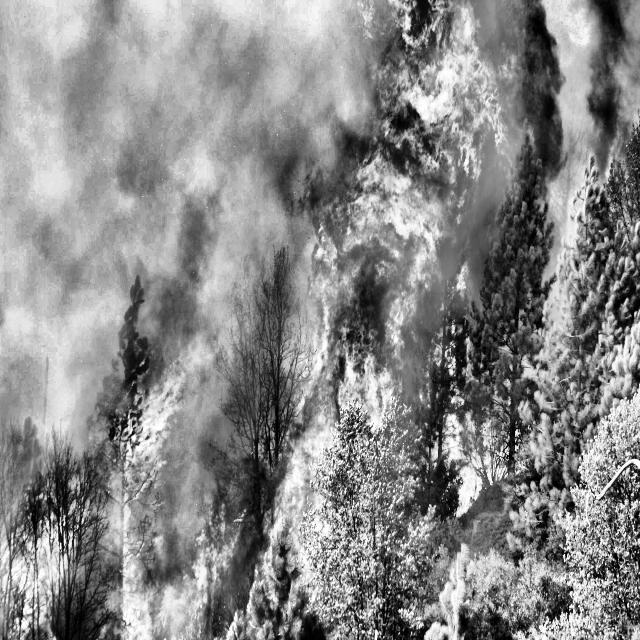fire: (299, 58, 593, 579), (59, 265, 263, 640), (18, 372, 132, 640)
